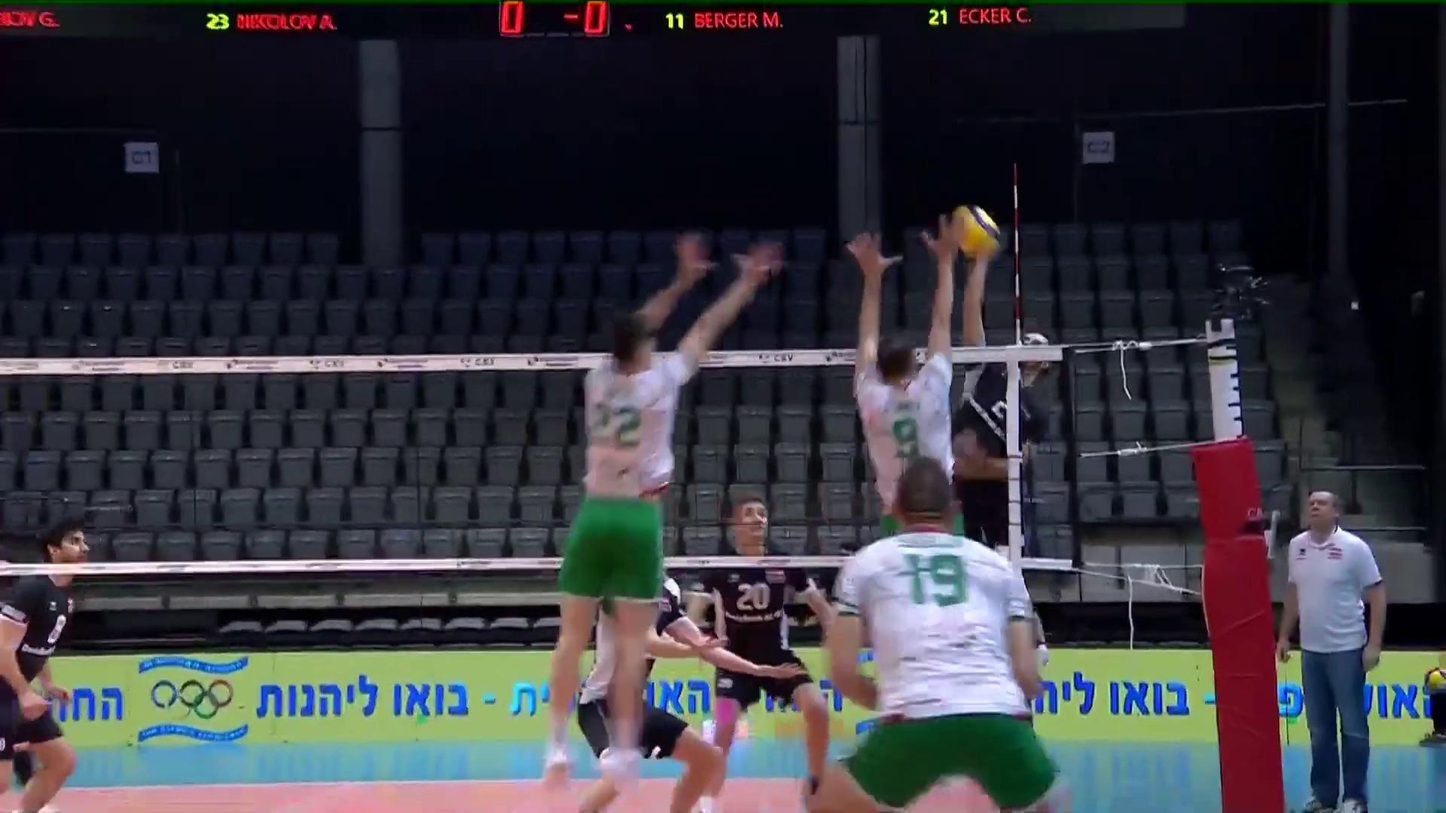ball: (951, 206, 998, 259)
